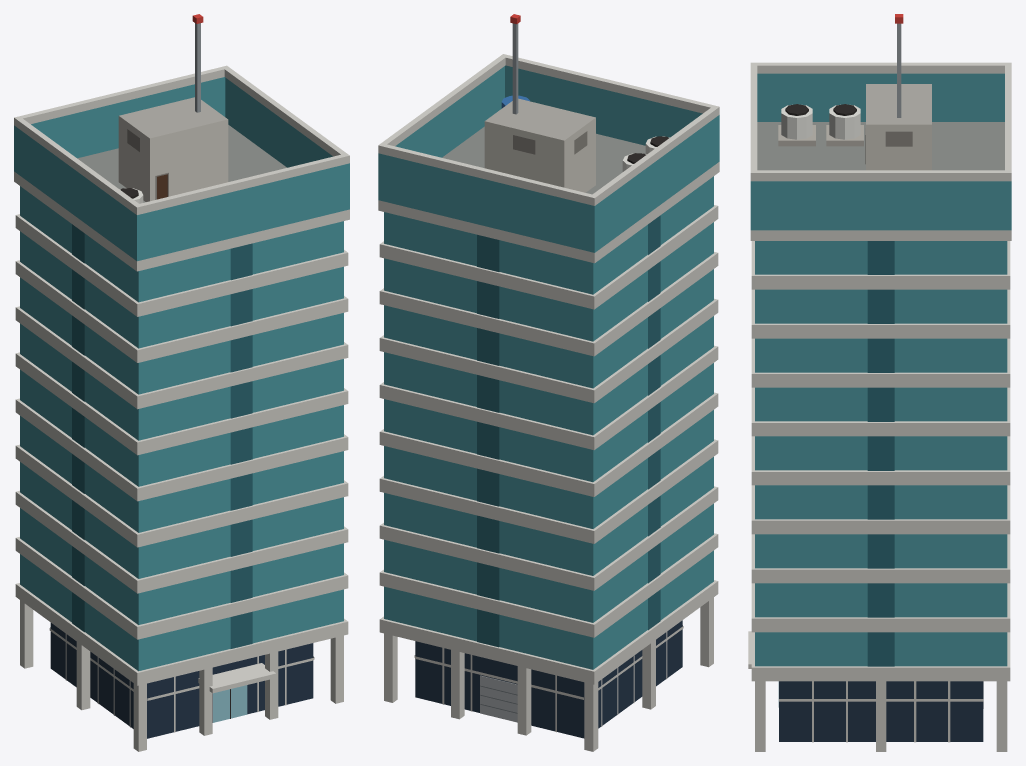
Rendered from gedung_00.glb.
The picture shows the model from 3 angles, left to right: view 1: azimuth 30°, elevation 25°; view 2: azimuth 150°, elevation 25°; view 3: azimuth 270°, elevation 25°; orthographic projection. The views are drawn at different scales.
Parts seen in each view (by area): view 1: gedung_00; view 2: gedung_00; view 3: gedung_00.
Boxes of the visible parts, x1,y1,x2,y2 form: gedung_00: (14, 14, 349, 751); gedung_00: (378, 14, 719, 751); gedung_00: (748, 14, 1011, 751).
Bounding box in the file's own units: 17.4 × 51.15 × 17.55.
